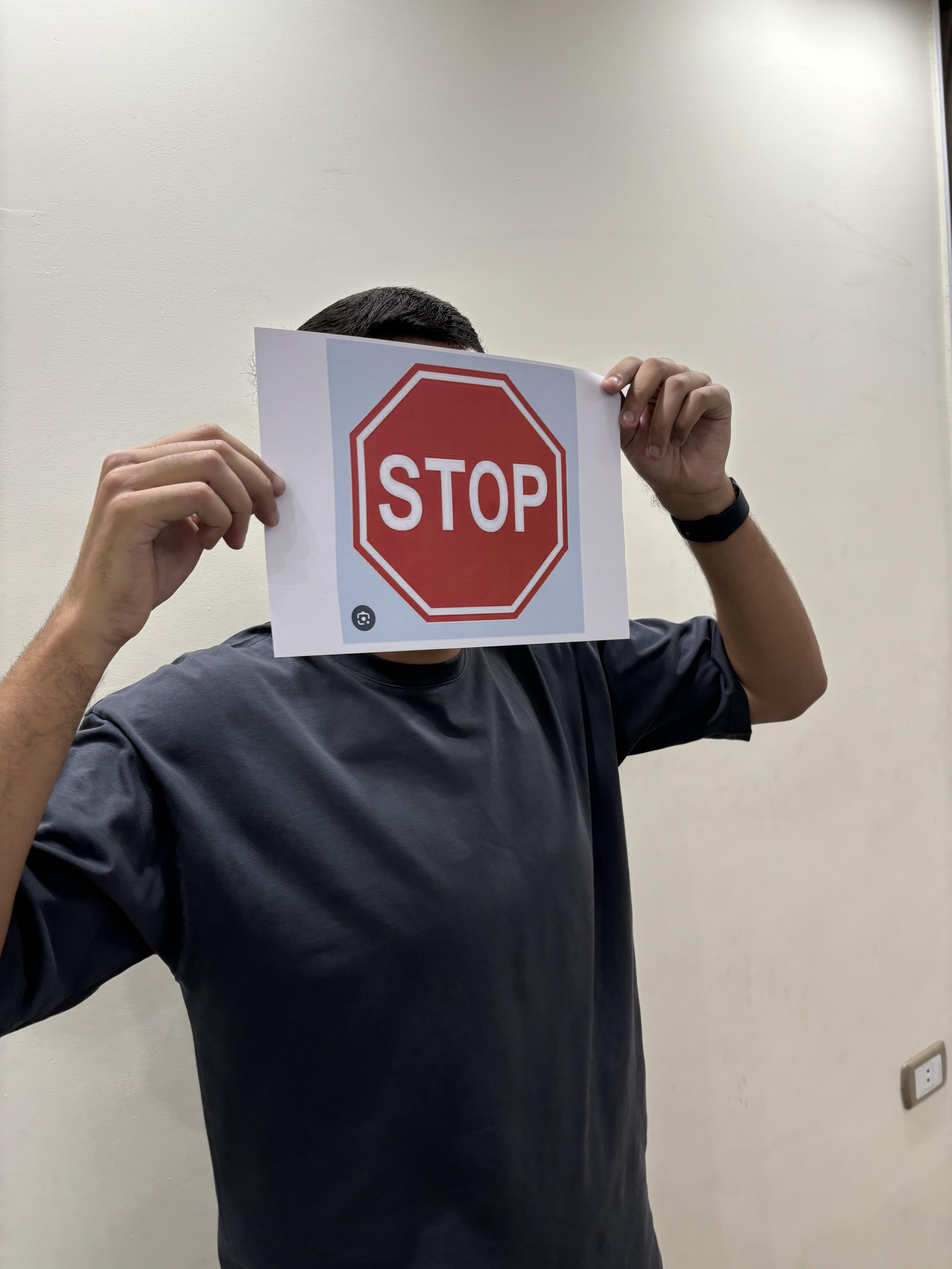Stop: (336, 356, 582, 627)
